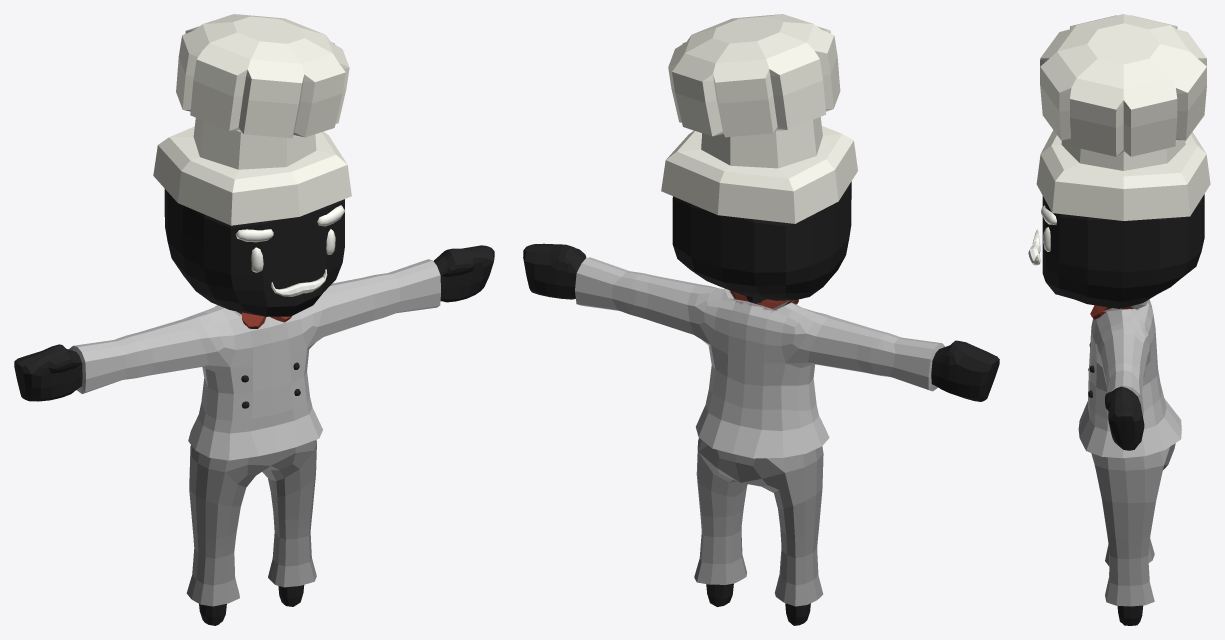
Rendered from Chef_Hat.fbx.
3 renders of one model, left to right at view 1: azimuth 30°, elevation 25°; view 2: azimuth 150°, elevation 25°; view 3: azimuth 270°, elevation 25°, orthographic. The views are drawn at different scales.
Parts seen in each view (by area): view 1: Body; view 2: Body; view 3: Body.
Part boxes in pixels (<box>): Body: <box>14,14,494,625</box>; Body: <box>523,14,999,625</box>; Body: <box>1028,14,1210,625</box>.
Bounding box in the file's own units: 324 × 384 × 110.
Materials: 1 (1 with a texture image).
